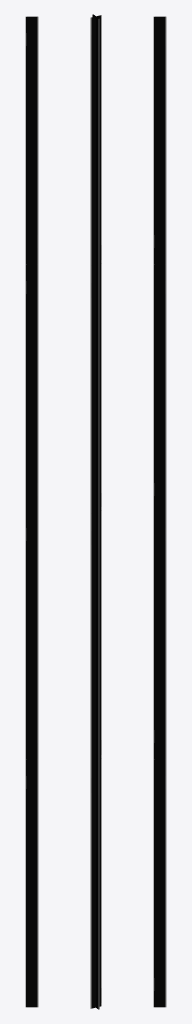
The model's file is Prop_Chain_Single.fbx.
3 renders of one model, left to right at view 1: azimuth 90°, elevation 25°; view 2: azimuth 210°, elevation 25°; view 3: azimuth 270°, elevation 25°, orthographic.
Visible parts, largest first — view 1: ChainSingleStratMesh; view 2: ChainSingleStratMesh; view 3: ChainSingleStratMesh.
Part boxes in pixels (bbox=[...]): ChainSingleStratMesh: bbox=[25, 16, 38, 1007]; ChainSingleStratMesh: bbox=[90, 14, 101, 1009]; ChainSingleStratMesh: bbox=[153, 16, 166, 1007].
Size of the model in its own units: 0.1974 by 16 by 0.1974.
